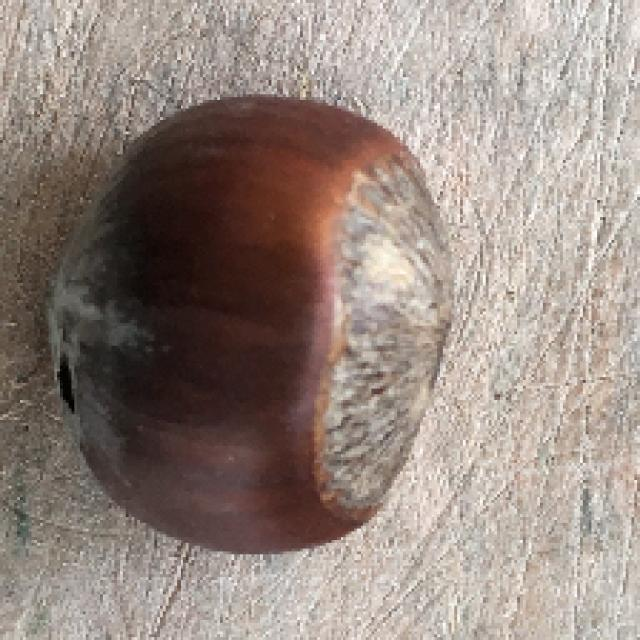damagedHazelnut: (40, 95, 452, 561)
